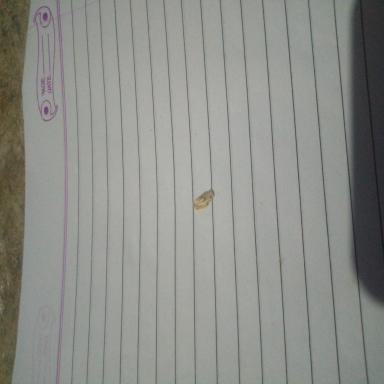pbw: (192, 187, 215, 213)
